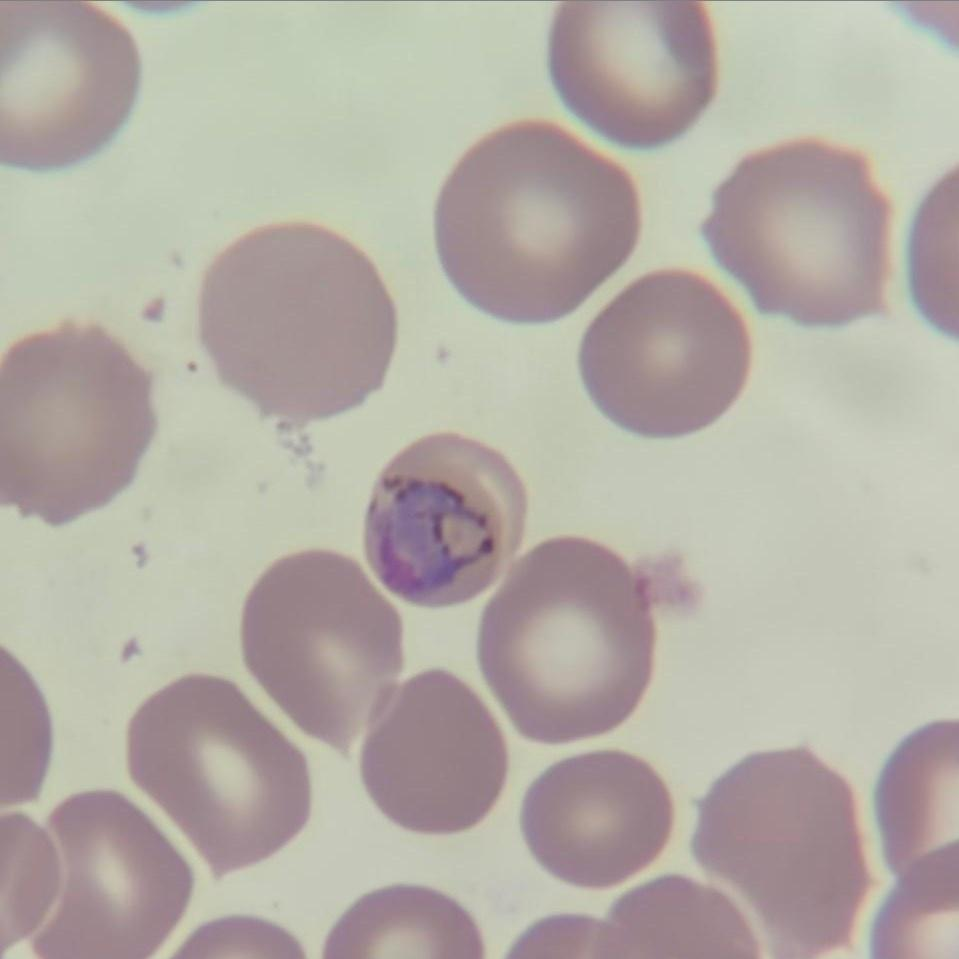Infected: (365, 428, 528, 611)
Uninfected: (435, 121, 642, 323), (205, 221, 395, 426), (122, 671, 312, 872), (688, 746, 860, 959), (707, 141, 887, 333), (485, 533, 648, 738), (235, 553, 402, 753), (0, 318, 150, 526), (575, 276, 753, 441), (25, 788, 190, 959), (552, 1, 717, 153), (0, 0, 135, 181), (355, 671, 498, 835), (518, 746, 665, 885)
